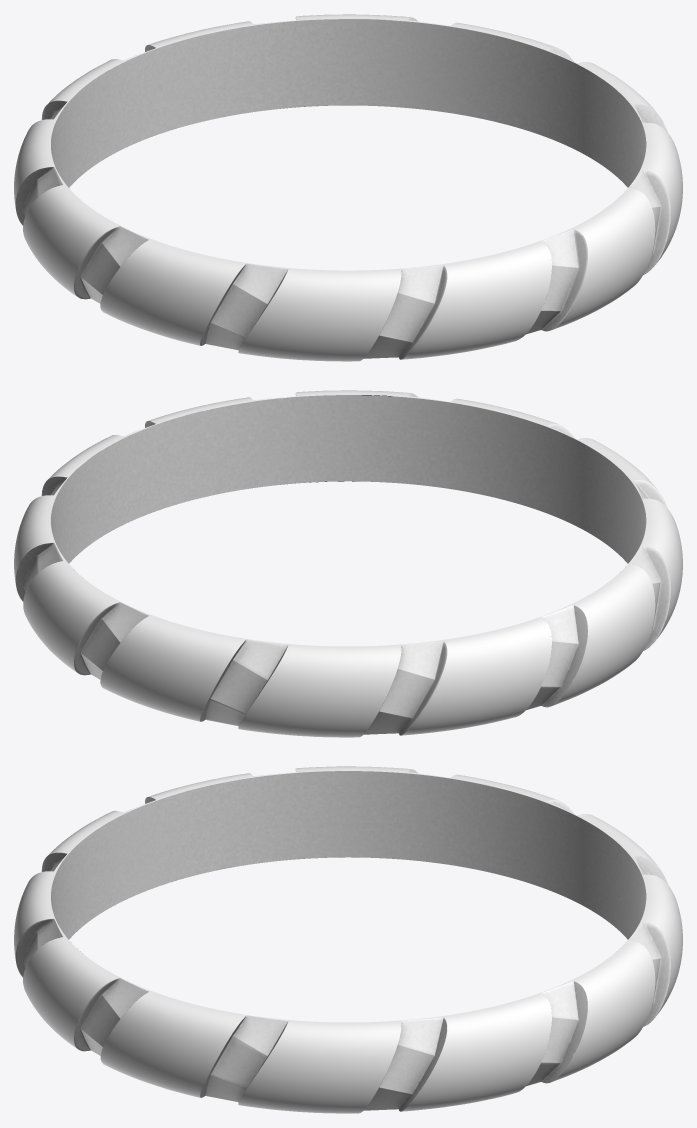
3 renders of one model, top to bottom at view 1: azimuth 30°, elevation 25°; view 2: azimuth 150°, elevation 25°; view 3: azimuth 270°, elevation 25°, orthographic.
Visible parts, largest first — view 1: Base_Metal, Finishing_Metal; view 2: Base_Metal, Finishing_Metal; view 3: Base_Metal, Finishing_Metal.
Part boxes in pixels (x1,y1,x2,y2): Base_Metal: (14, 14, 682, 361); Finishing_Metal: (15, 17, 670, 359); Base_Metal: (14, 390, 682, 737); Finishing_Metal: (15, 393, 670, 735); Base_Metal: (14, 766, 682, 1113); Finishing_Metal: (15, 769, 670, 1111).
Bounding box in the file's own units: 2.8 × 0.4003 × 2.8.
Materials: 2 (2 with a texture image).
